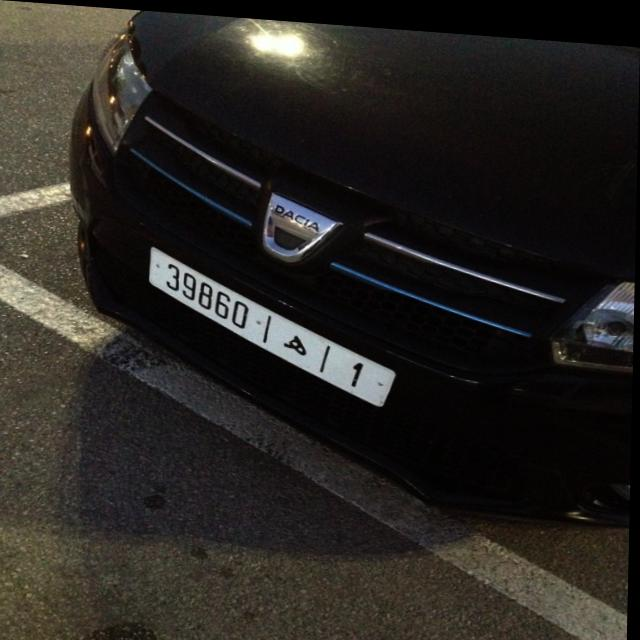License-Plate: (150, 246, 397, 400)
